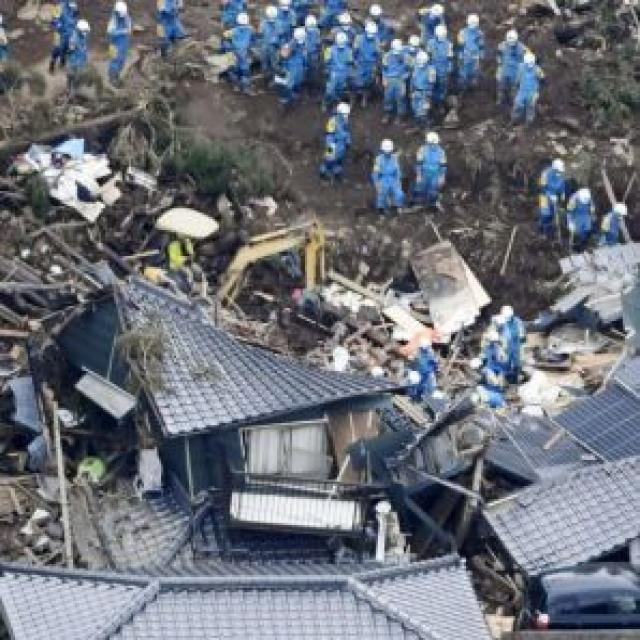collapsed_building: (0, 232, 638, 638)
